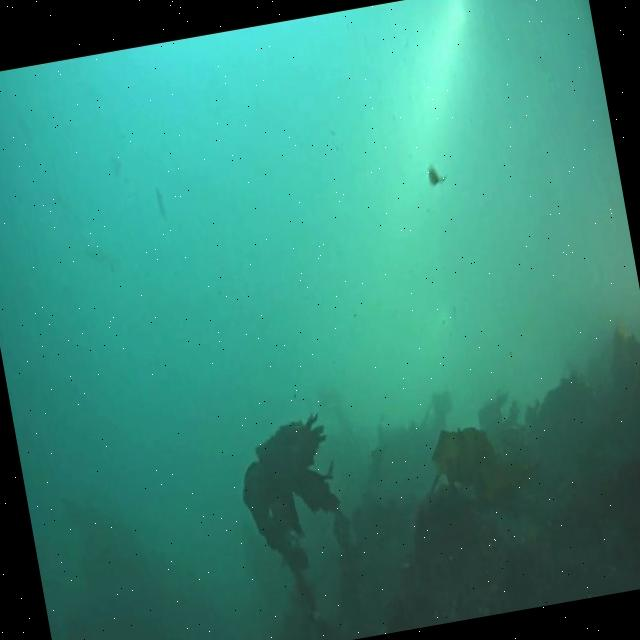fish: (425, 163, 447, 191)
